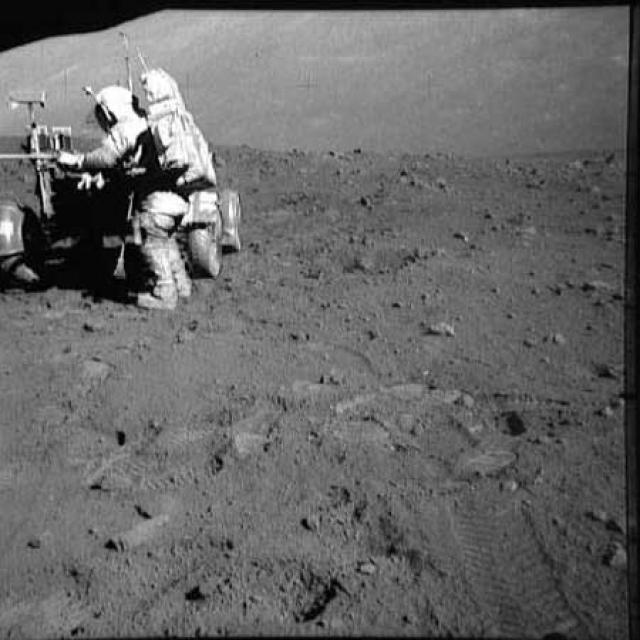artifact: (0, 28, 255, 312)
crater: (286, 237, 428, 280)
rock: (415, 314, 464, 338), (581, 274, 617, 297)
